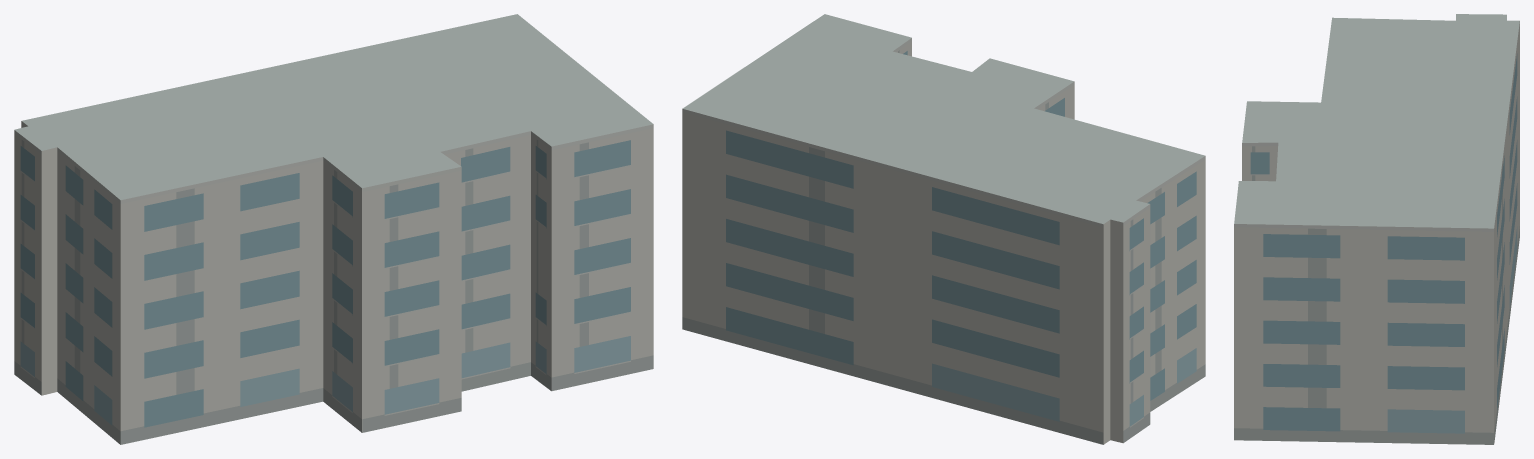
Rendered from survey-upis-32876324.glb.
The picture shows the model from 3 angles, left to right: view 1: azimuth 30°, elevation 25°; view 2: azimuth 150°, elevation 25°; view 3: azimuth 270°, elevation 25°; orthographic projection. The views are drawn at different scales.
Parts seen in each view (by area): view 1: survey-upis-32876324.tmp; view 2: survey-upis-32876324.tmp; view 3: survey-upis-32876324.tmp.
Boxes of the visible parts, <box> form: survey-upis-32876324.tmp: <box>14,14,653,444</box>; survey-upis-32876324.tmp: <box>682,14,1205,444</box>; survey-upis-32876324.tmp: <box>1234,14,1519,444</box>.
Bounding box in the file's own units: 32.45 × 15.25 × 18.27.
